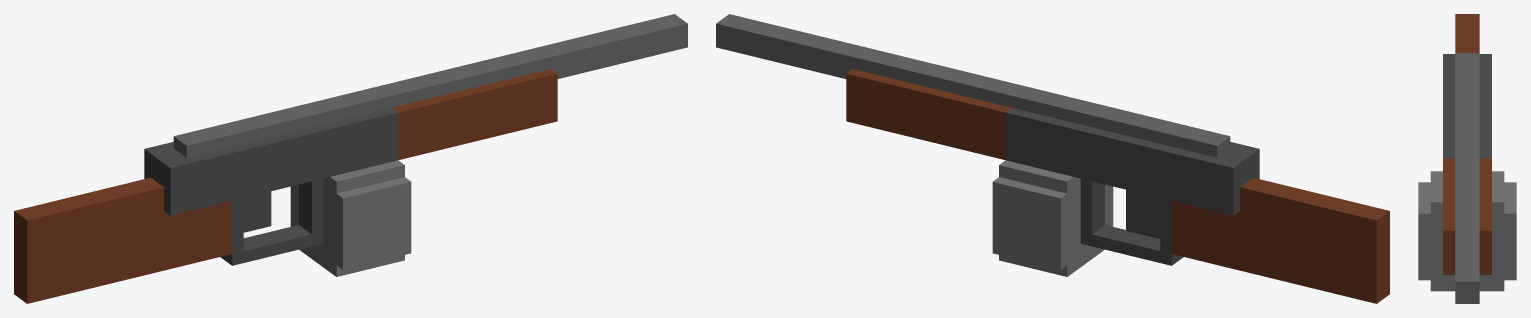
Rendered from TommyGun.obj.
3 views of the same model, side by side, from view 1: azimuth 30°, elevation 25°; view 2: azimuth 150°, elevation 25°; view 3: azimuth 270°, elevation 25° (orthographic). The views are drawn at different scales.
Visible parts, largest first — view 1: TommyGun; view 2: TommyGun; view 3: TommyGun.
Part boxes in pixels (left/top/right/bottom): TommyGun: left=14, top=14, right=687, bottom=303; TommyGun: left=716, top=14, right=1389, bottom=303; TommyGun: left=1418, top=14, right=1516, bottom=303.
Size of the model in its own units: 58 by 13 by 8.
Materials: 1 (1 with a texture image).
